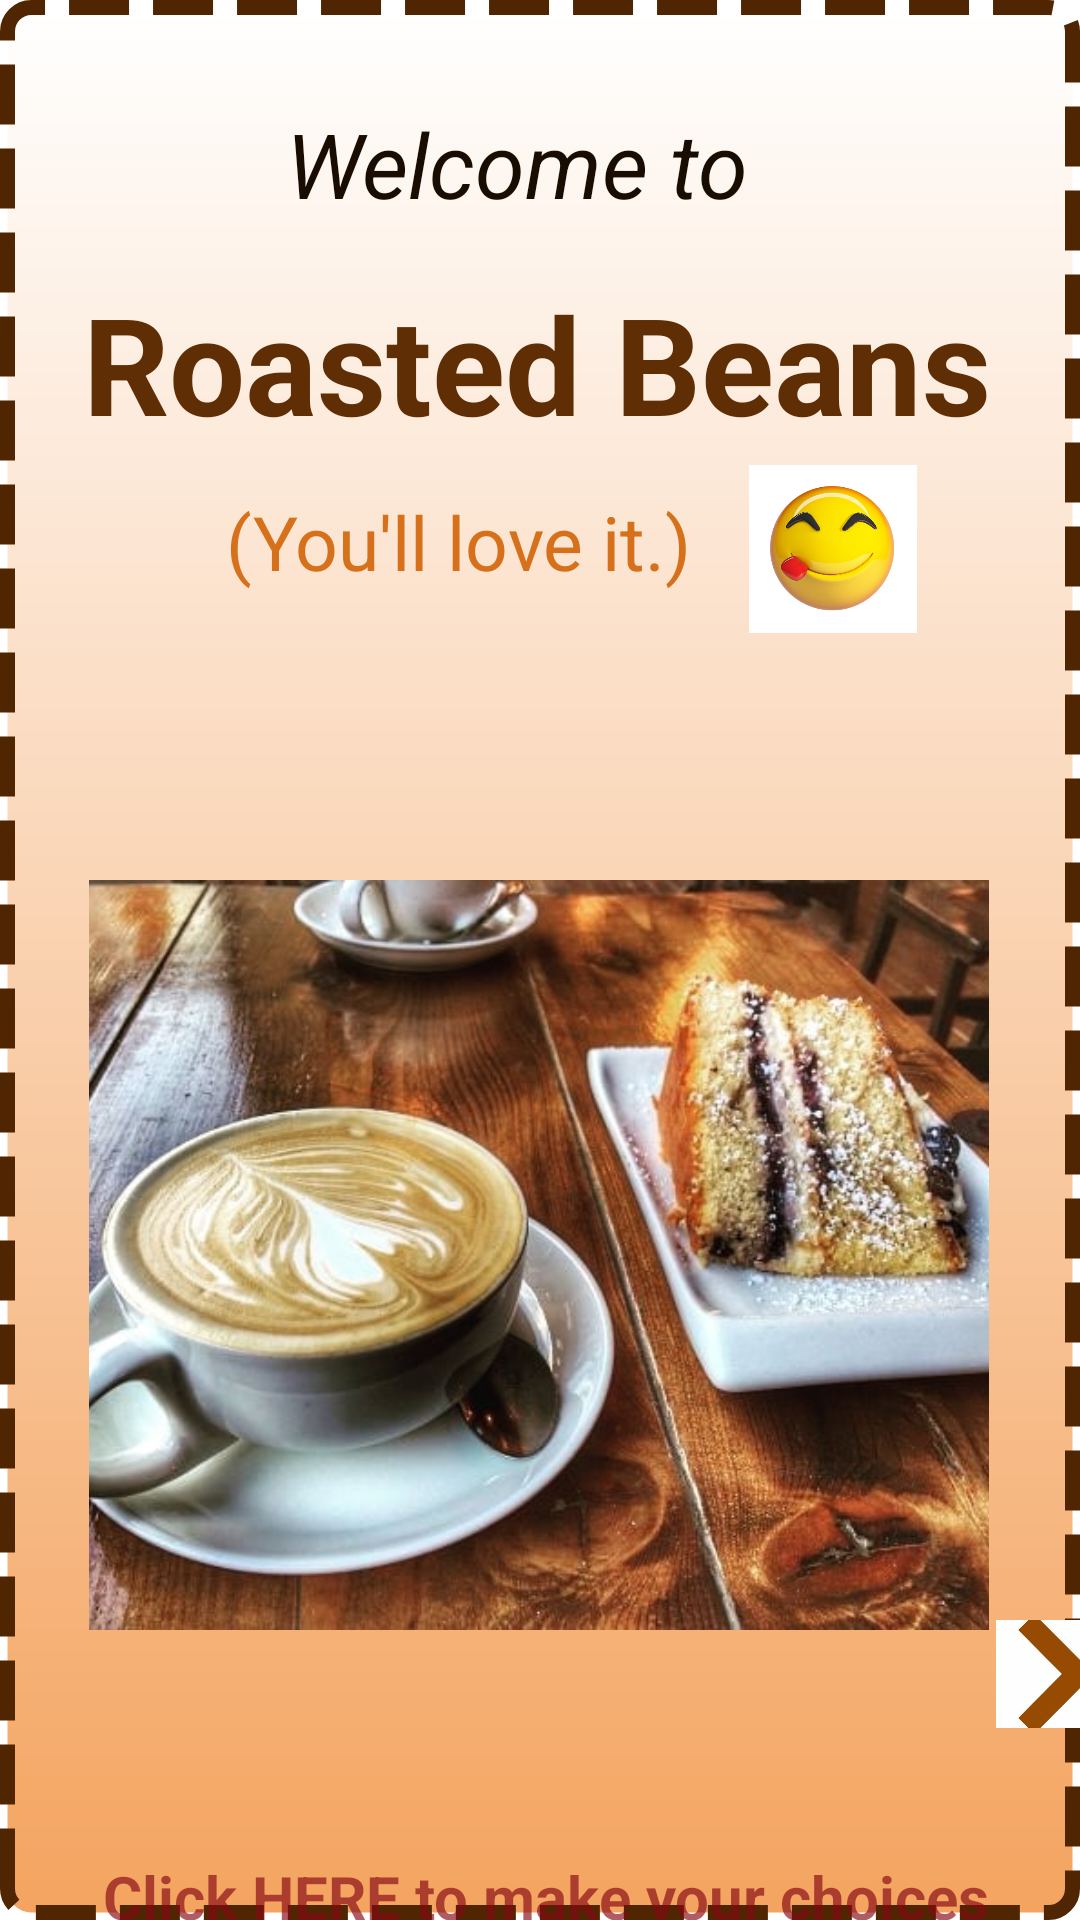

Where to tap for icons on this 1080x1920 app screen, as point (x, y):
tastyemoji: point (833, 549)
